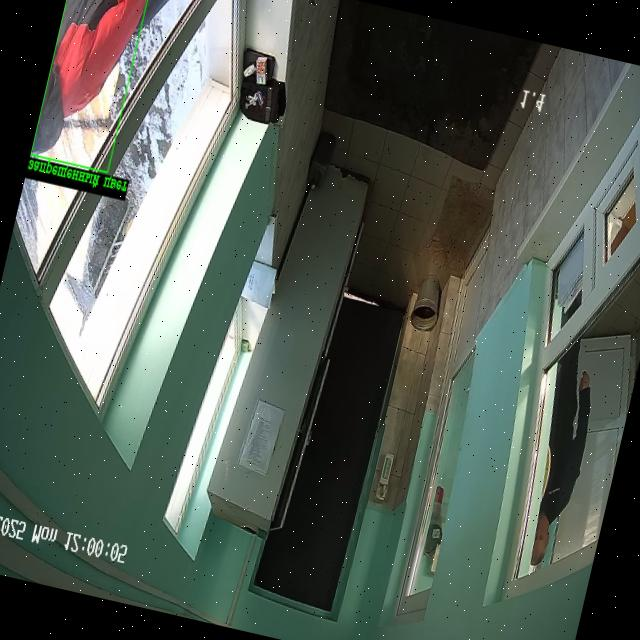Person: (530, 339, 590, 566)
Red uniform: (31, 0, 168, 154)
